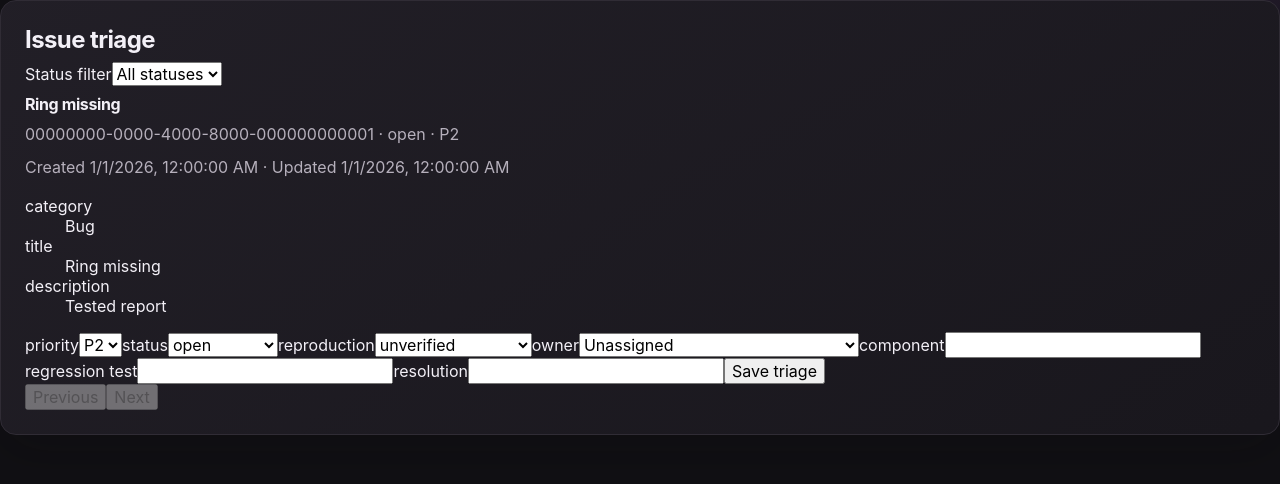
Scenario: shows reviewer report details and persists triage through the protected API
expect the heading "Ring missing" is shown: met, box [25,94,120,114]
Select "P1" in the dropdown labelled "priority" at x=100, y=345, box [79,333,122,357]
Select "in-progress" in the dropdown labelled "status" at x=223, y=345, box [168,333,278,357]
Select "reproduced" in the dropdown labelled "reproduction" at x=453, y=345, box [375,333,532,357]
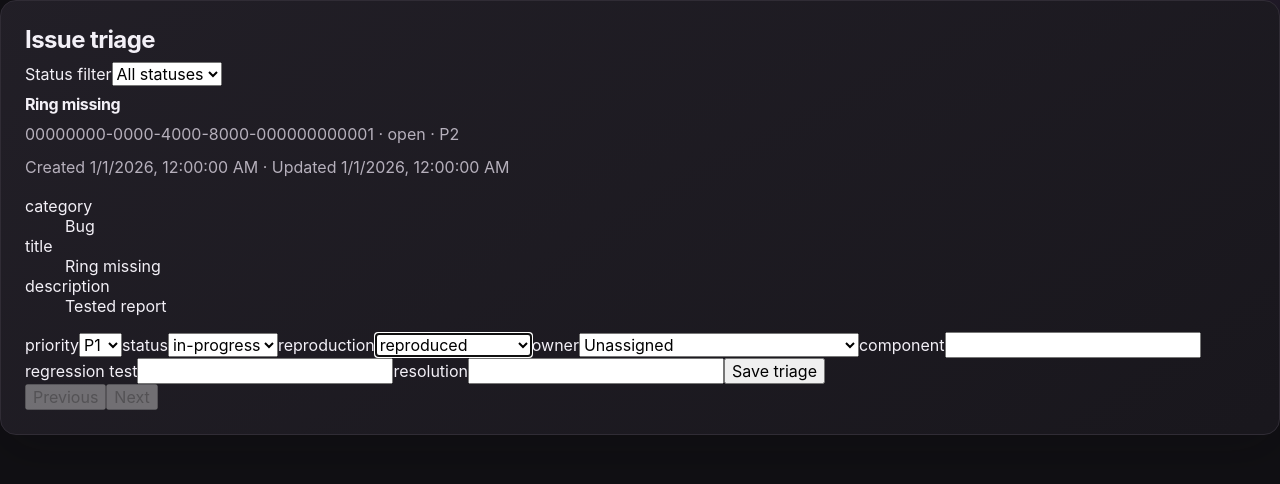
Type "overlay" into the field labelled "component" at x=1072, y=345, box [944,332,1200,358]
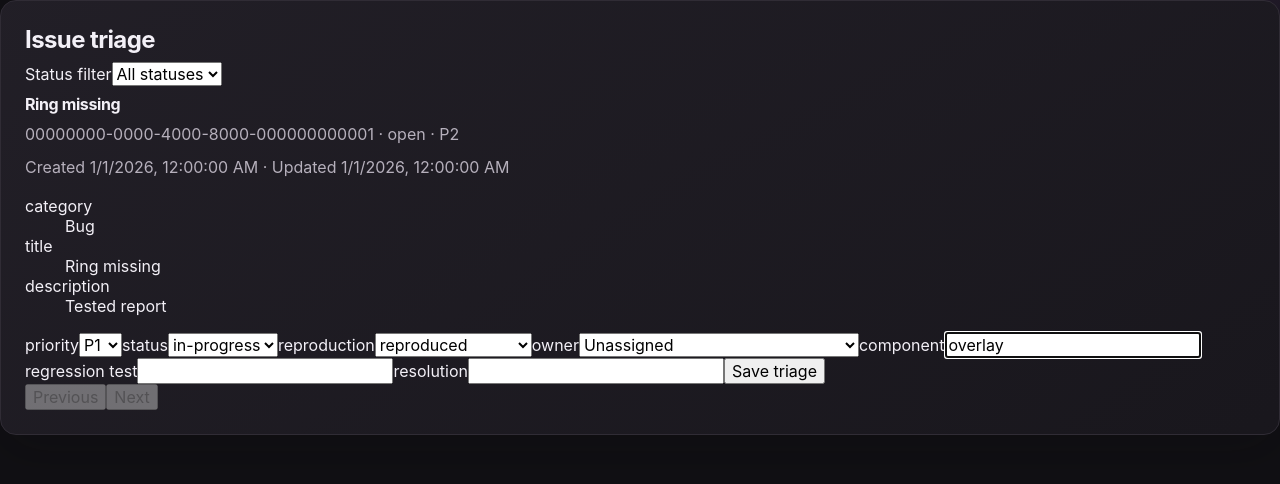
Type "FeedbackDesk test" into the field labelled "regression test" at x=265, y=371, box [137,358,393,384]
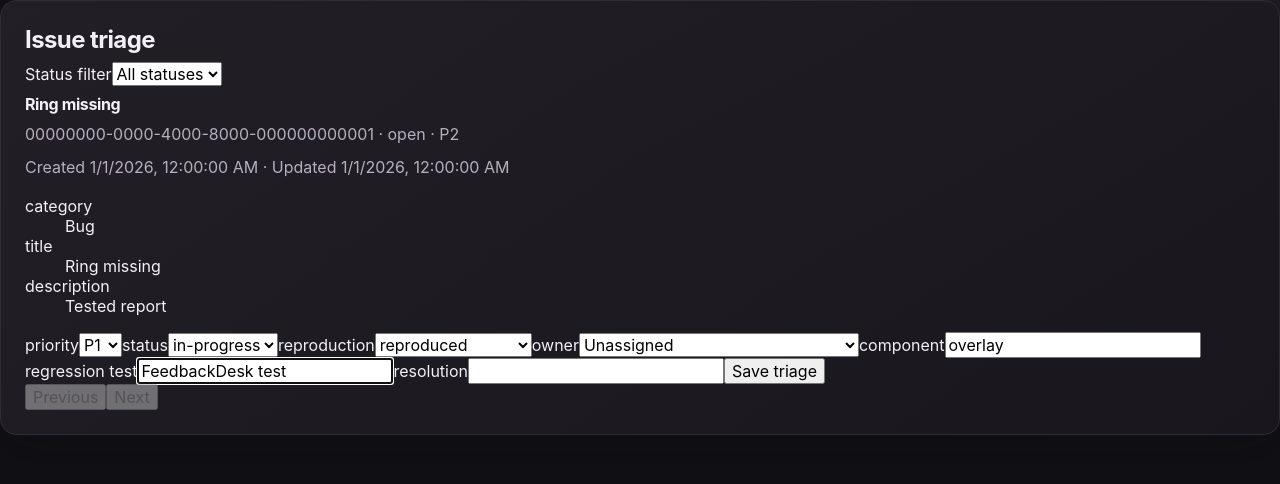
Type "Confirmed triage update" into the field labelled "resolution" at x=596, y=371, box [468,358,724,384]
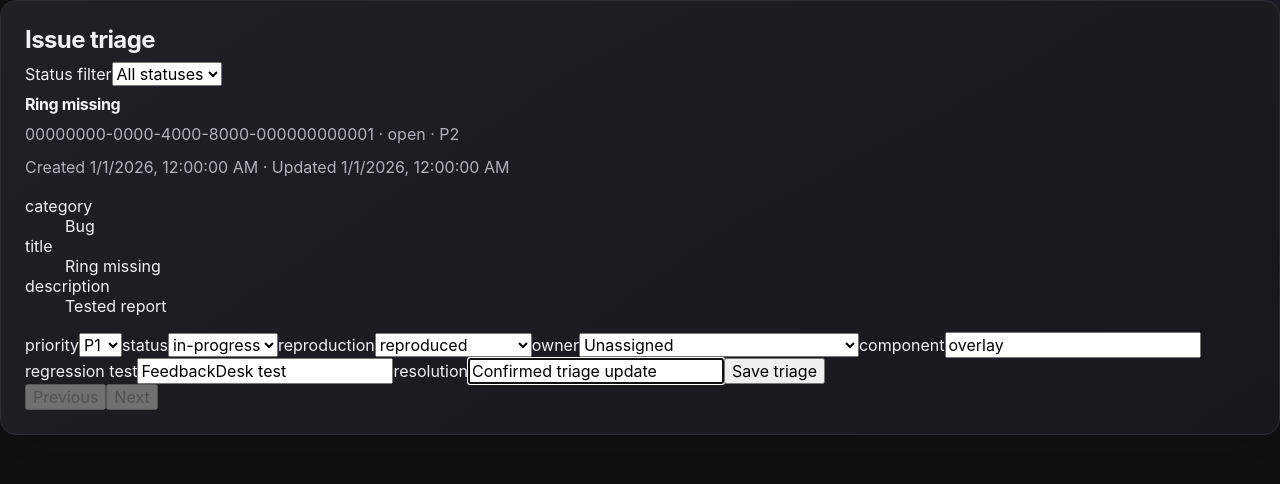
Select "reviewer@example.test (reviewer)" in the dropdown labelled "owner" at x=719, y=345, box [579,333,859,357]
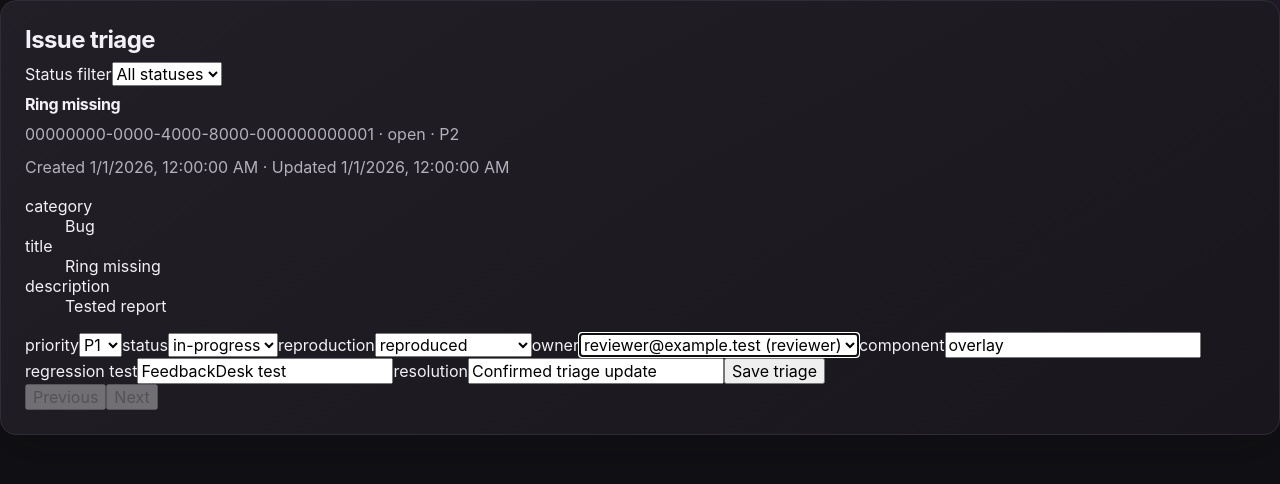
Click the button "Save triage" at x=774, y=371, box [724,358,825,384]
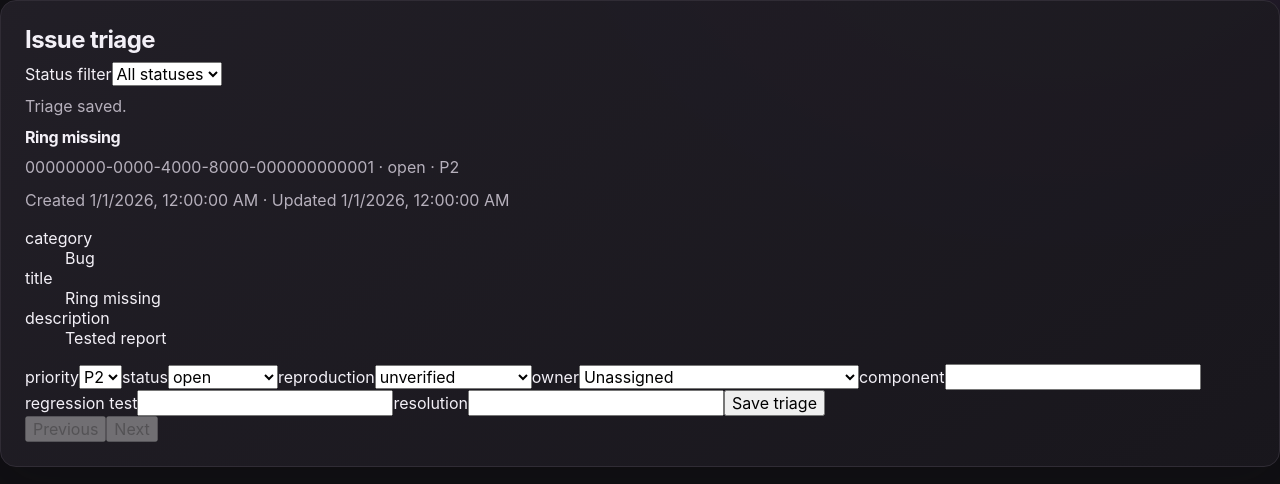
expect the text "Triage saved." is shown: met, box [25,96,127,116]
